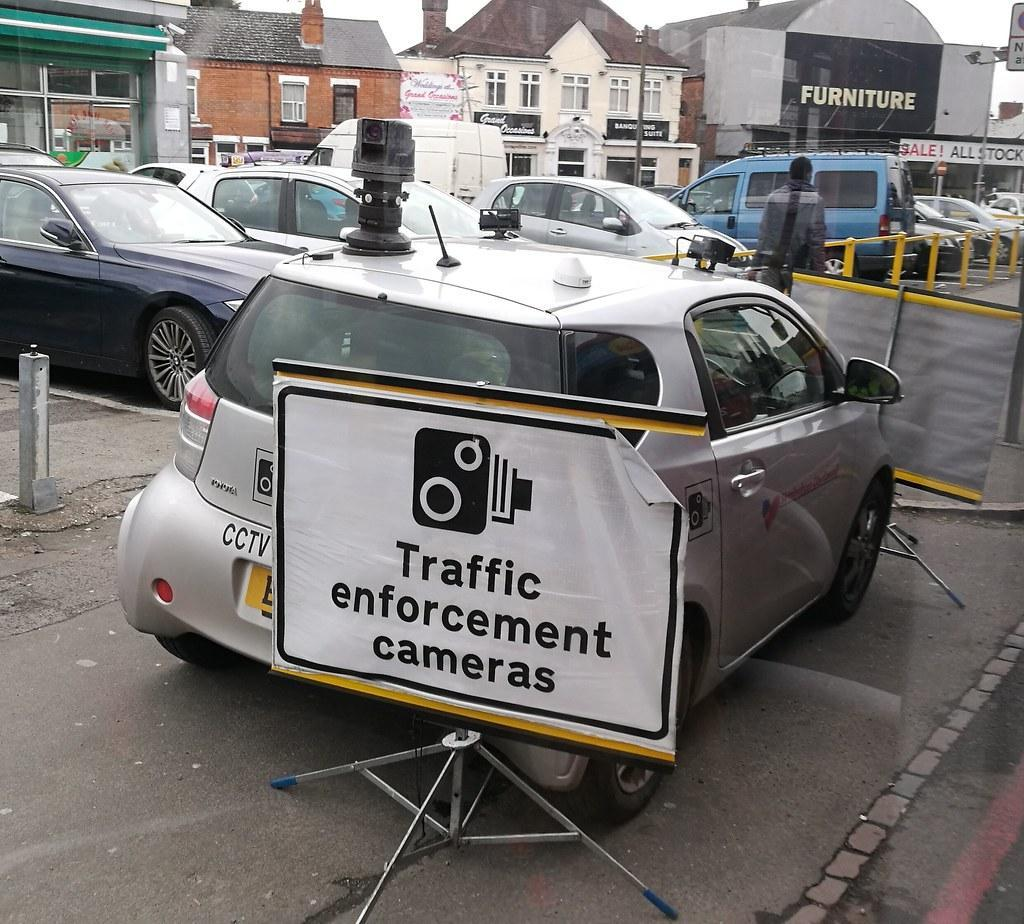Monitor: (316, 83, 456, 279)
